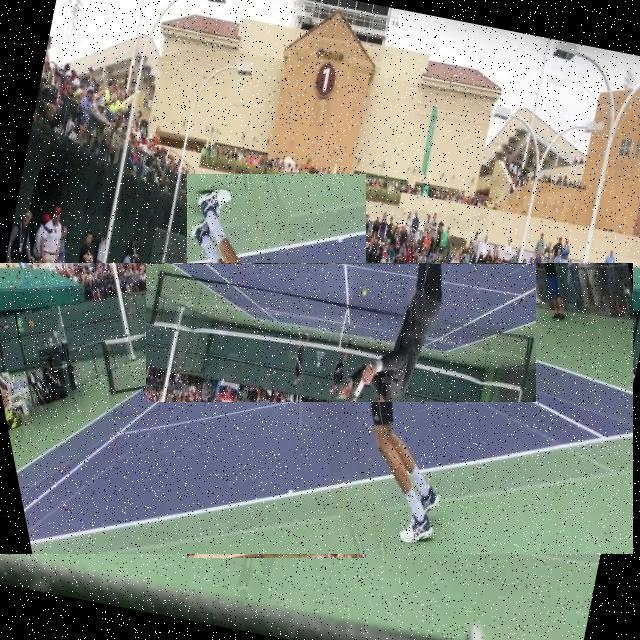court: (0, 263, 633, 554)
net: (146, 264, 536, 402)
player: (188, 174, 368, 558)
